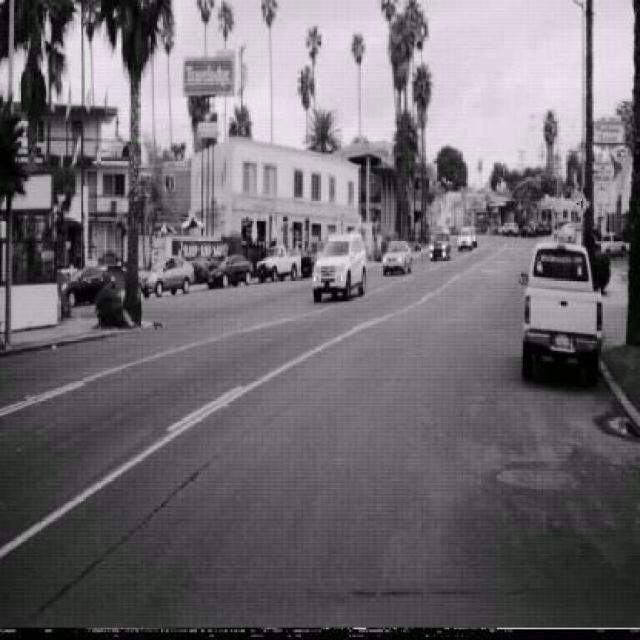pedestrianCrossing: (575, 189, 591, 220)
